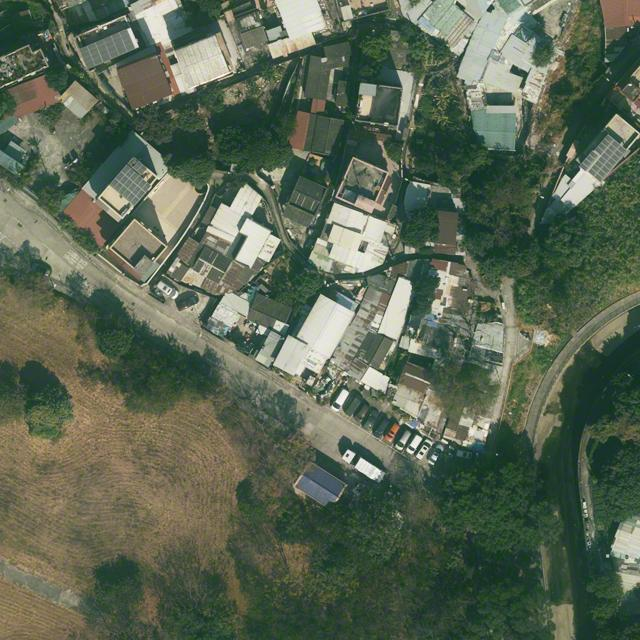panel: (579, 135, 628, 182), (79, 29, 135, 70), (109, 165, 151, 206), (132, 160, 148, 175)
